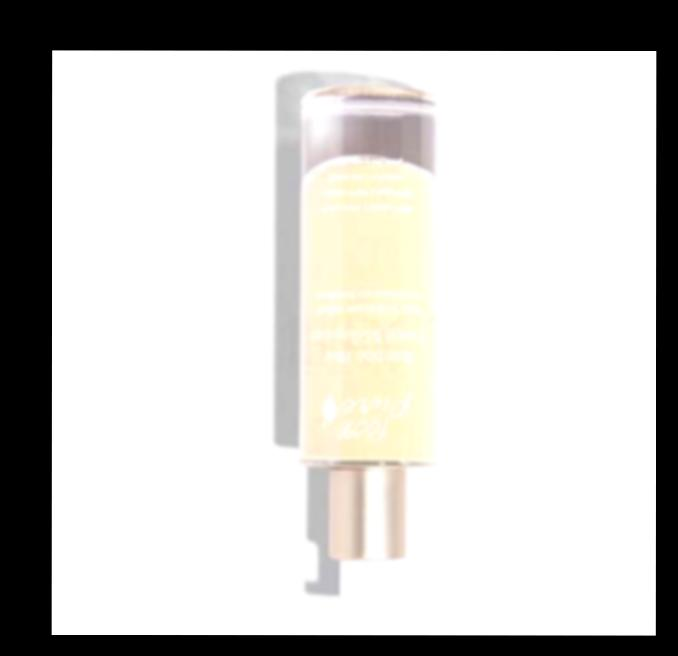cosmetic: (298, 95, 441, 610)
